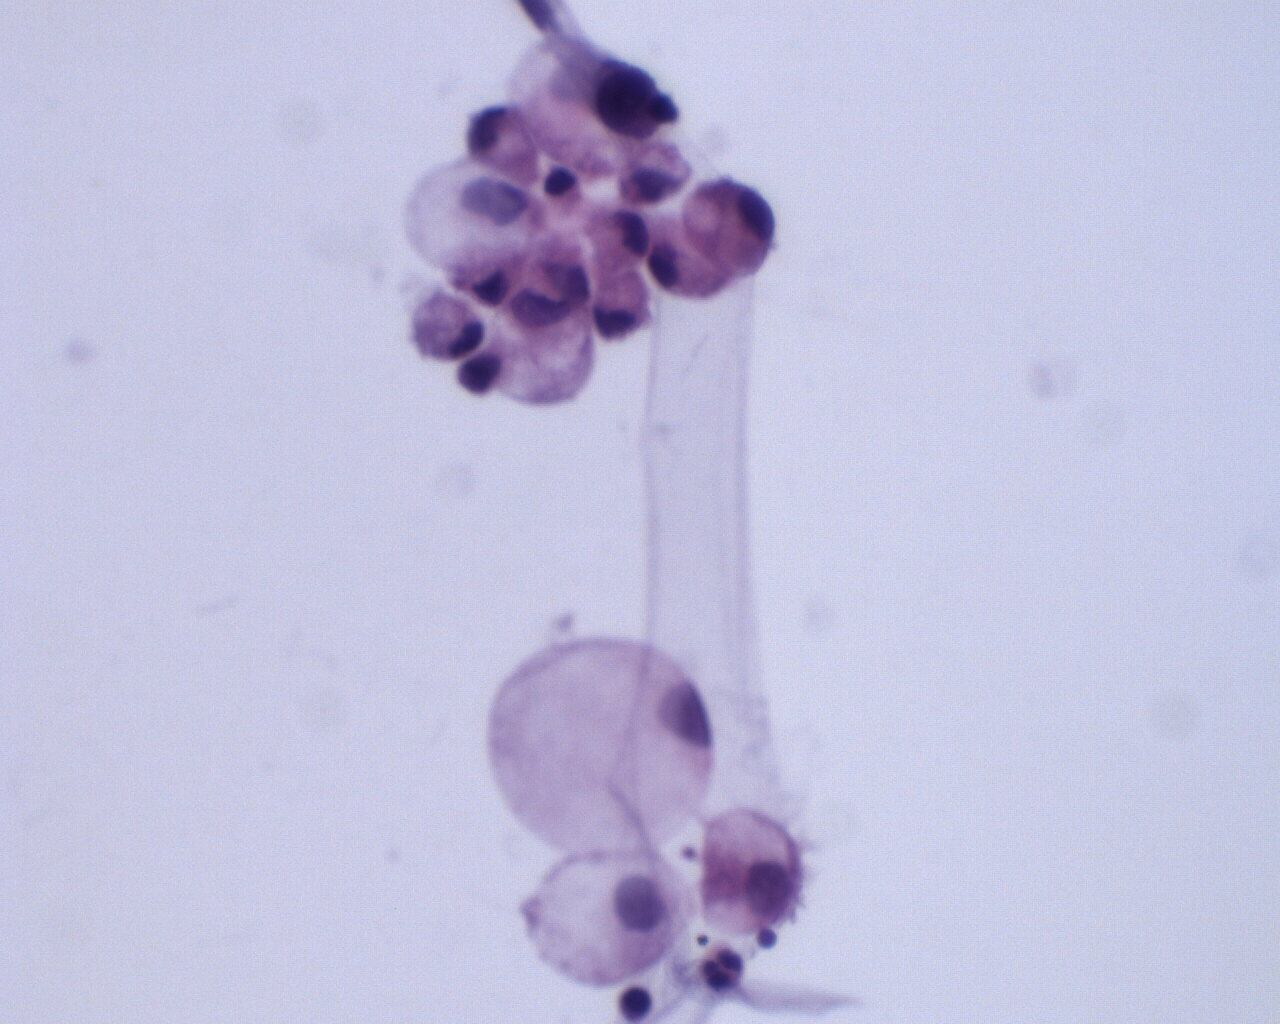histo: (483, 638, 715, 851), (520, 851, 693, 982), (697, 811, 807, 935), (681, 174, 776, 275), (409, 290, 489, 364)
lymph: (616, 985, 656, 1023)
neutro: (699, 942, 744, 994)
